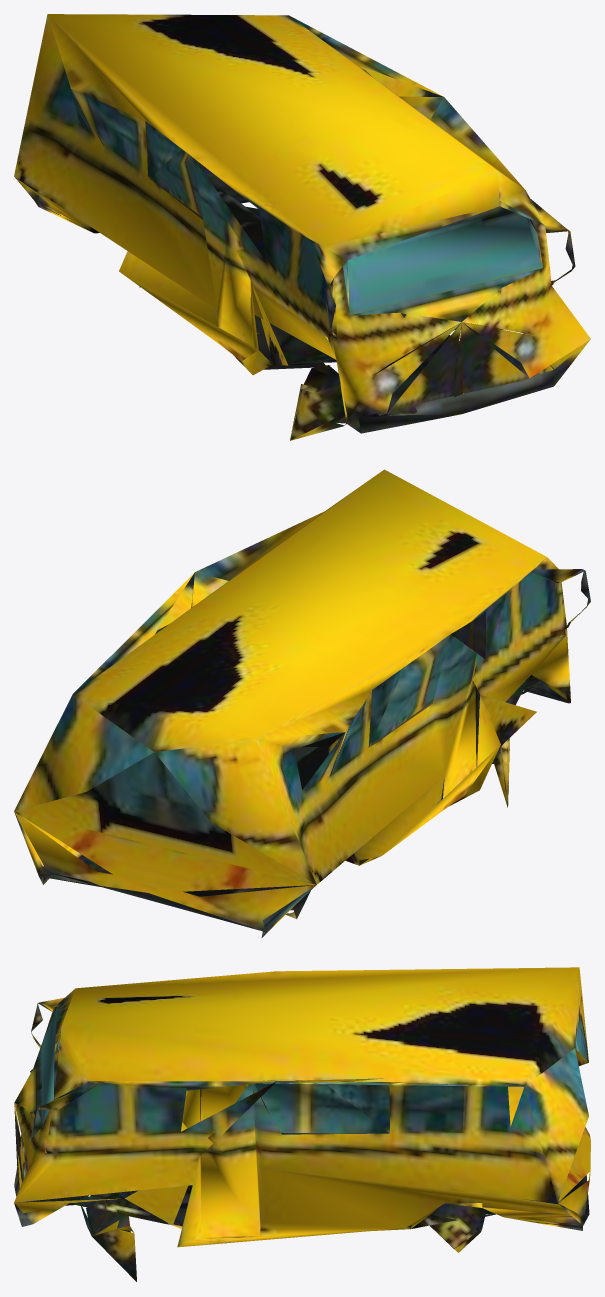
File: danfo-far.glb
The picture shows the model from 3 angles, top to bottom: view 1: azimuth 30°, elevation 25°; view 2: azimuth 150°, elevation 25°; view 3: azimuth 270°, elevation 25°; orthographic projection. The views are drawn at different scales.
Parts seen in each view (by area): view 1: danfo-far; view 2: danfo-far; view 3: danfo-far.
Part boxes in pixels (x1,y1,x2,y2): danfo-far: (14,14,590,440); danfo-far: (14,469,590,937); danfo-far: (14,967,590,1281).
Bounding box in the file's own units: 2.59 × 2.25 × 4.87.
Materials: 1 (1 with a texture image).
